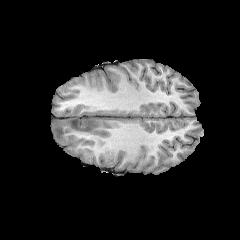glioma: (52, 119, 111, 142)
